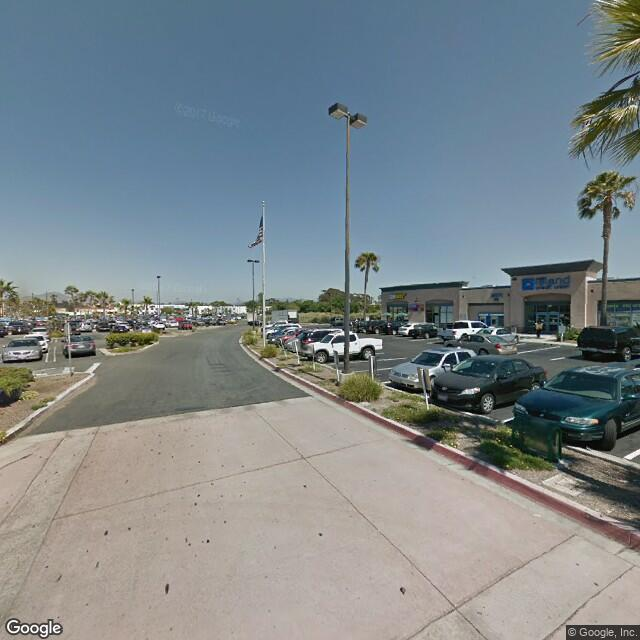litter: (558, 461, 573, 469), (615, 479, 628, 484)
